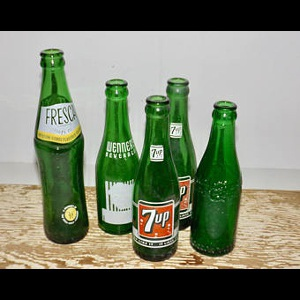emptybottle: (35, 50, 90, 244), (190, 101, 243, 256), (133, 95, 178, 262), (95, 79, 140, 236), (157, 77, 197, 231)
